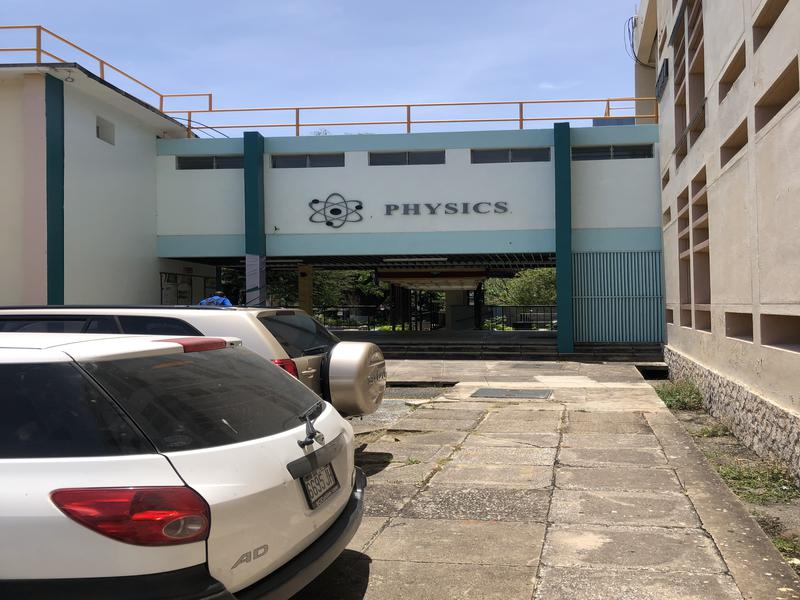18.0053657_-76.7491452_physicssign: (293, 187, 540, 235)
